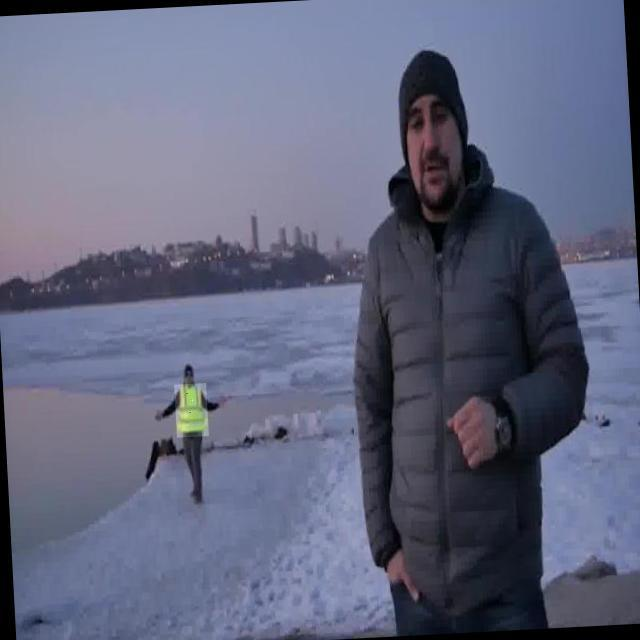Gloves: (153, 405, 168, 427), (214, 392, 232, 408)
Person: (336, 34, 612, 640), (150, 354, 237, 513)
Safety Vest: (174, 383, 209, 438)
bare-arms: (442, 395, 519, 487), (378, 540, 431, 608)
no-helmet: (390, 47, 471, 113), (181, 363, 194, 374)
no-vest: (352, 146, 595, 601)
